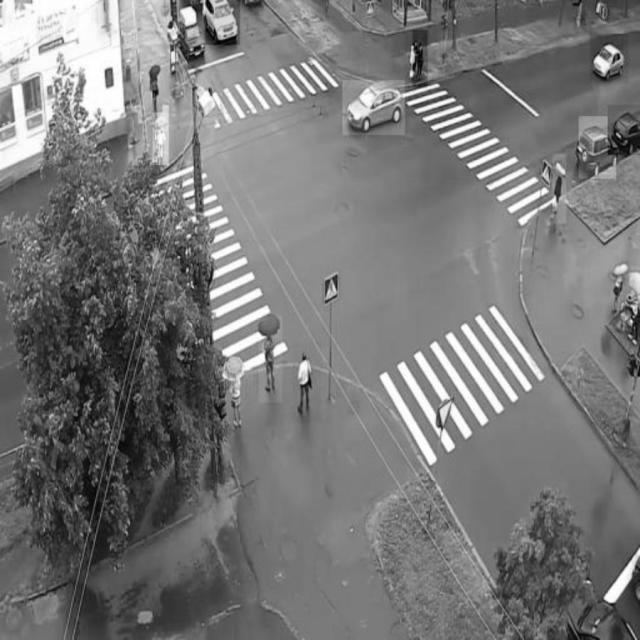person: (293, 343, 321, 423), (259, 316, 283, 402), (225, 353, 245, 425), (553, 154, 567, 224), (153, 105, 169, 165), (613, 259, 628, 323), (414, 31, 429, 88), (148, 65, 163, 113), (405, 31, 419, 81)
vehicle: (343, 80, 405, 135), (579, 116, 616, 178), (590, 34, 628, 84), (608, 105, 640, 155), (205, 1, 240, 46), (178, 9, 205, 61)
